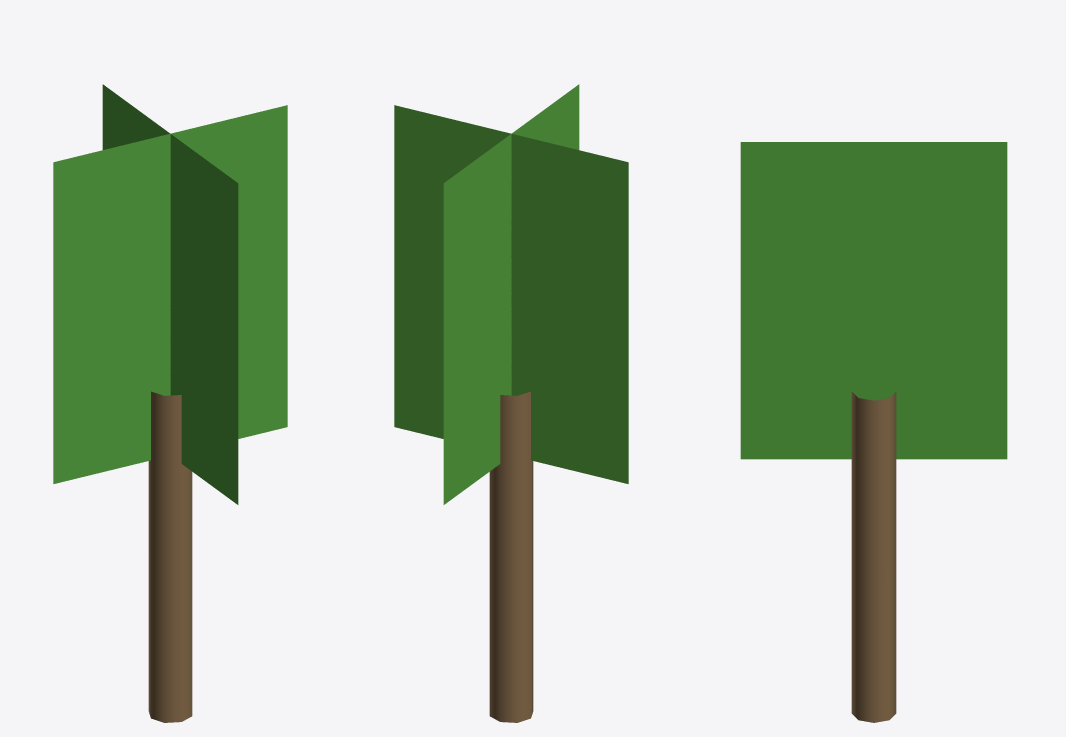
The model's file is wind_tree.glb.
3 views of the same model, side by side, from view 1: azimuth 30°, elevation 25°; view 2: azimuth 150°, elevation 25°; view 3: azimuth 270°, elevation 25° (orthographic).
Parts seen in each view (by area): view 1: WindFixtureFoliage, WindFixtureStem; view 2: WindFixtureFoliage, WindFixtureStem; view 3: WindFixtureFoliage, WindFixtureStem.
Boxes of the visible parts, bbox=[...] form: WindFixtureFoliage: bbox=[53, 84, 287, 504]; WindFixtureStem: bbox=[148, 391, 192, 722]; WindFixtureFoliage: bbox=[394, 84, 628, 504]; WindFixtureStem: bbox=[489, 391, 533, 722]; WindFixtureFoliage: bbox=[740, 142, 1007, 459]; WindFixtureStem: bbox=[851, 391, 896, 722].
Bounding box in the file's own units: 16 × 31 × 16.
2 materials, 1 textured.
